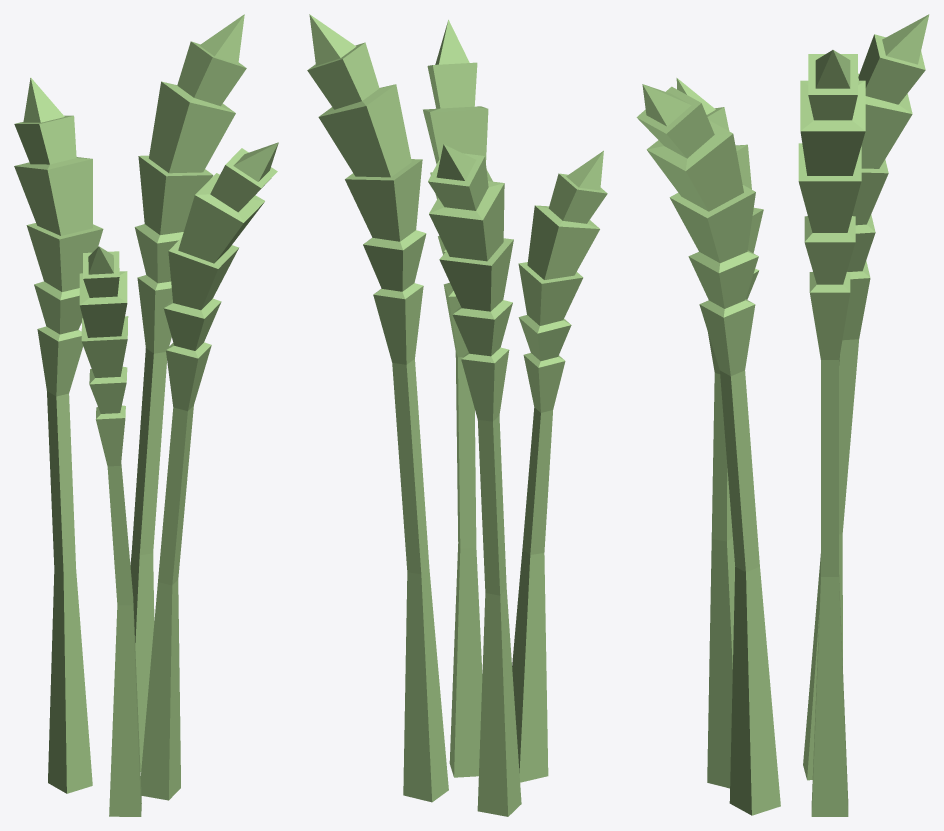
File: shoot_system.glb
3 views of the same model, side by side, from view 1: azimuth 30°, elevation 25°; view 2: azimuth 150°, elevation 25°; view 3: azimuth 270°, elevation 25° (orthographic). The views are drawn at different scales.
Parts seen in each view (by area): view 1: Wheat; view 2: Wheat; view 3: Wheat.
Boxes of the visible parts, bbox=[...] form: Wheat: bbox=[14, 14, 278, 816]; Wheat: bbox=[307, 14, 607, 816]; Wheat: bbox=[636, 14, 929, 816].
Bounding box in the file's own units: 55.18 × 170 × 54.98.
